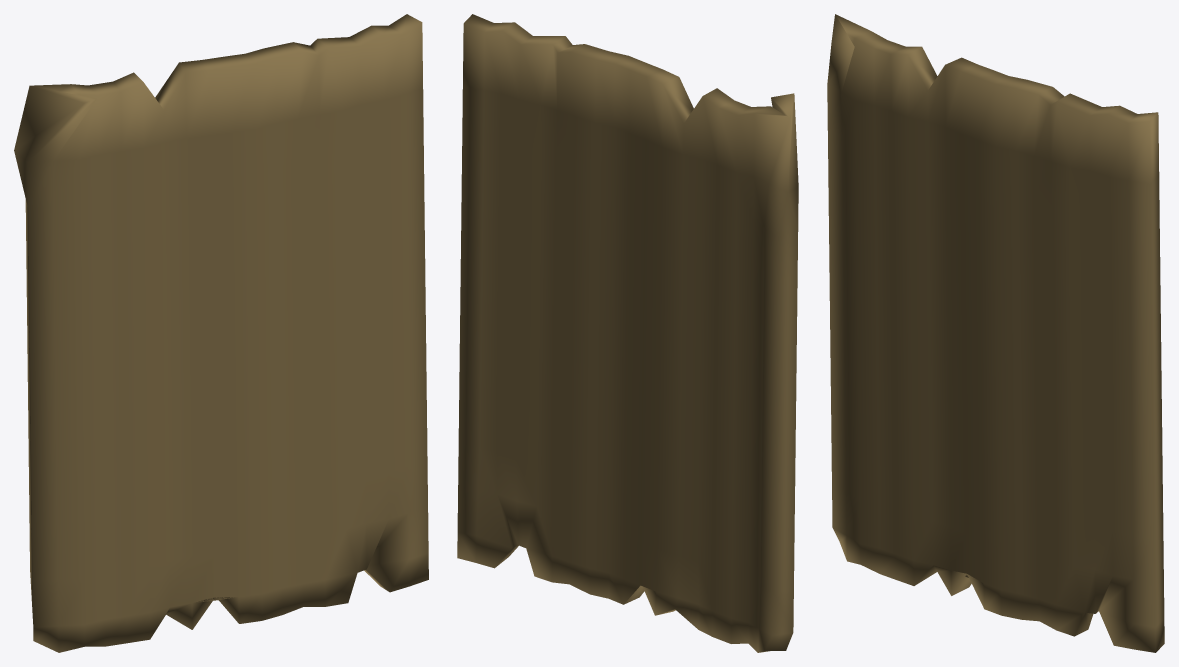
Rendered from Hoja.fbx.
3 renders of one model, left to right at view 1: azimuth 30°, elevation 25°; view 2: azimuth 150°, elevation 25°; view 3: azimuth 330°, elevation 25°, orthographic. The views are drawn at different scales.
Parts seen in each view (by area): view 1: Plane.016; view 2: Plane.016; view 3: Plane.016.
Part boxes in pixels (x1=…): Plane.016: x1=14, y1=14, x2=428, y2=652; Plane.016: x1=457, y1=14, x2=798, y2=652; Plane.016: x1=827, y1=14, x2=1164, y2=652.
Size of the model in its own units: 141 by 203 by 28.37.
